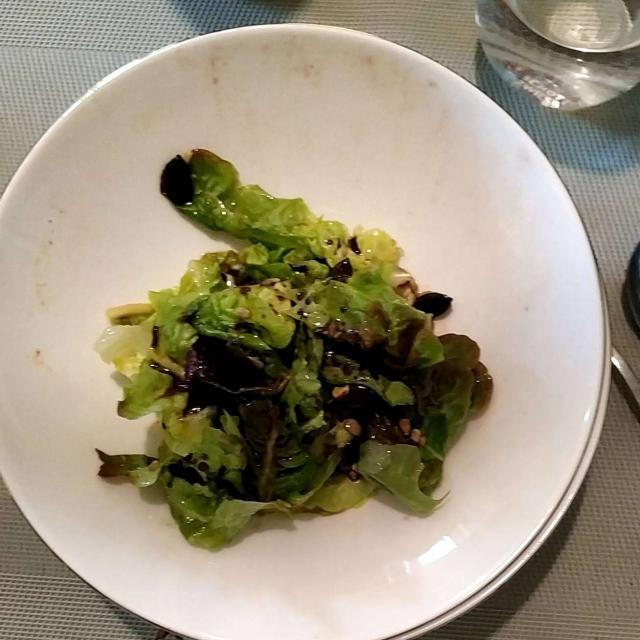salad: (106, 158, 476, 540)
